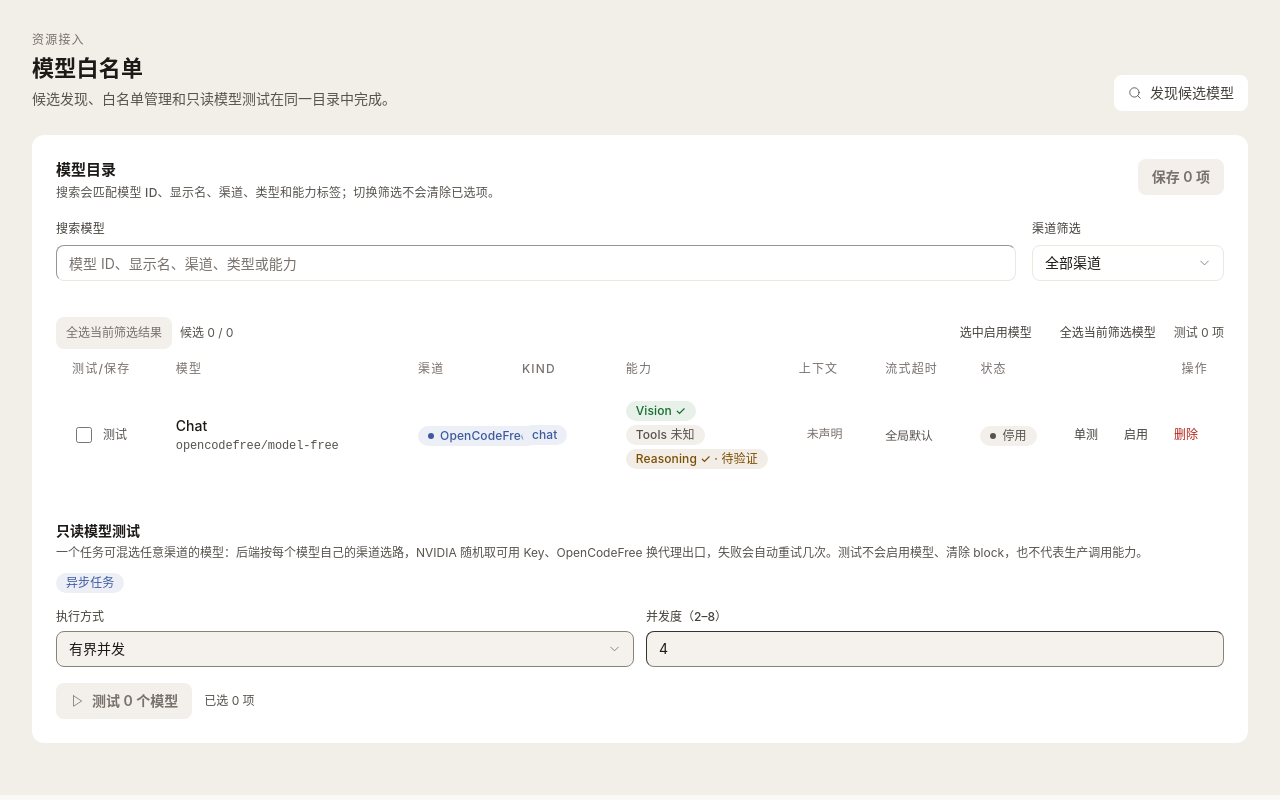
it: ModelsView › allows enabling and disabling an OpenCodeFree model
Click the button with test id "model-enable".
click(1136, 435)  # box [1114, 419, 1158, 451]
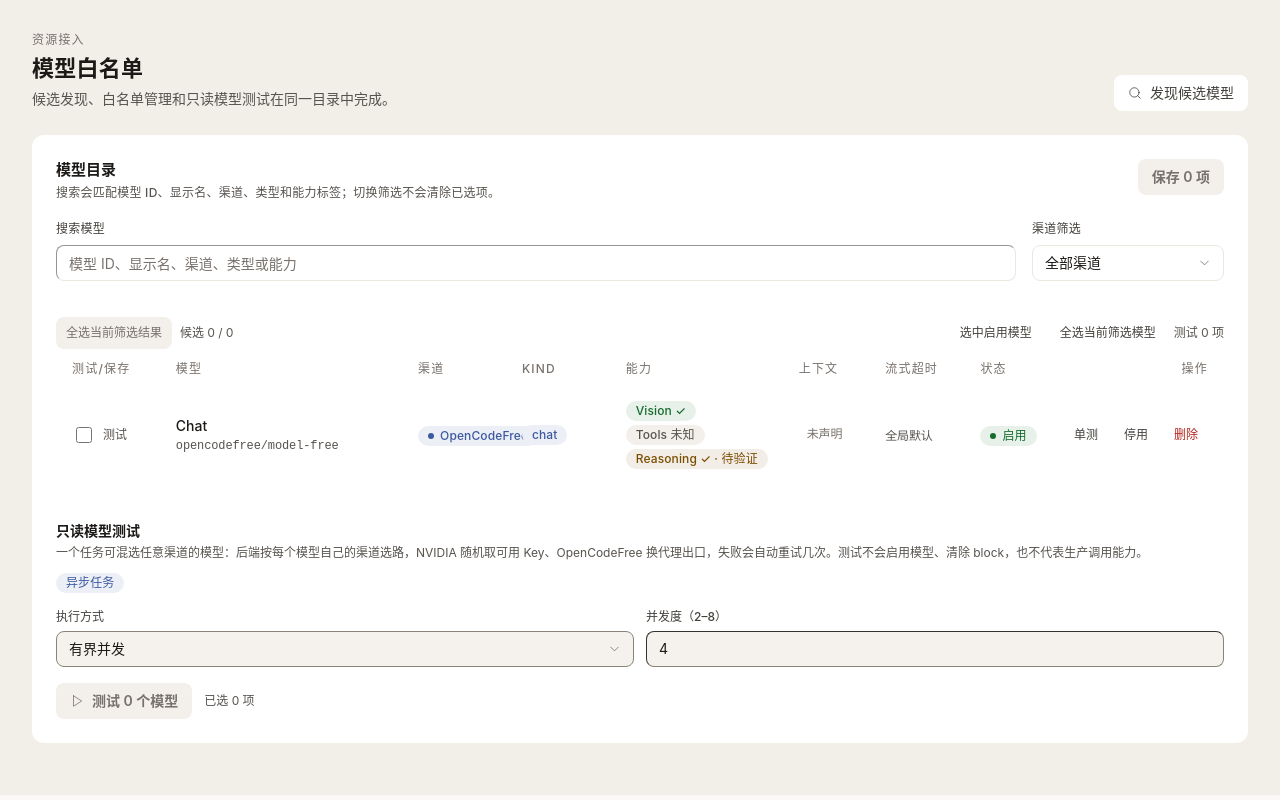
Now the button with test id "model-enable" reads "停用"
Click the button with test id "model-enable".
click(1136, 435)  # box [1114, 419, 1158, 451]
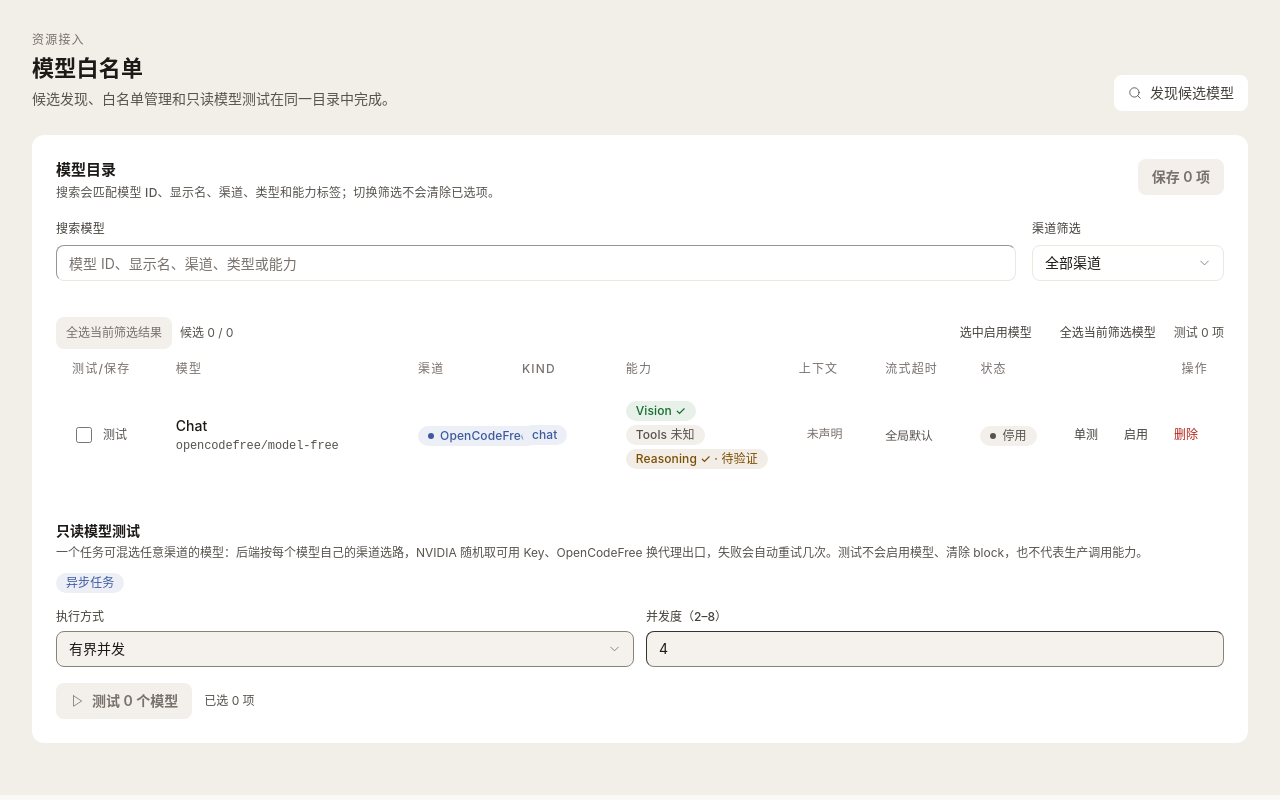
Now the button with test id "model-enable" reads "启用", box [1114, 419, 1158, 451]
